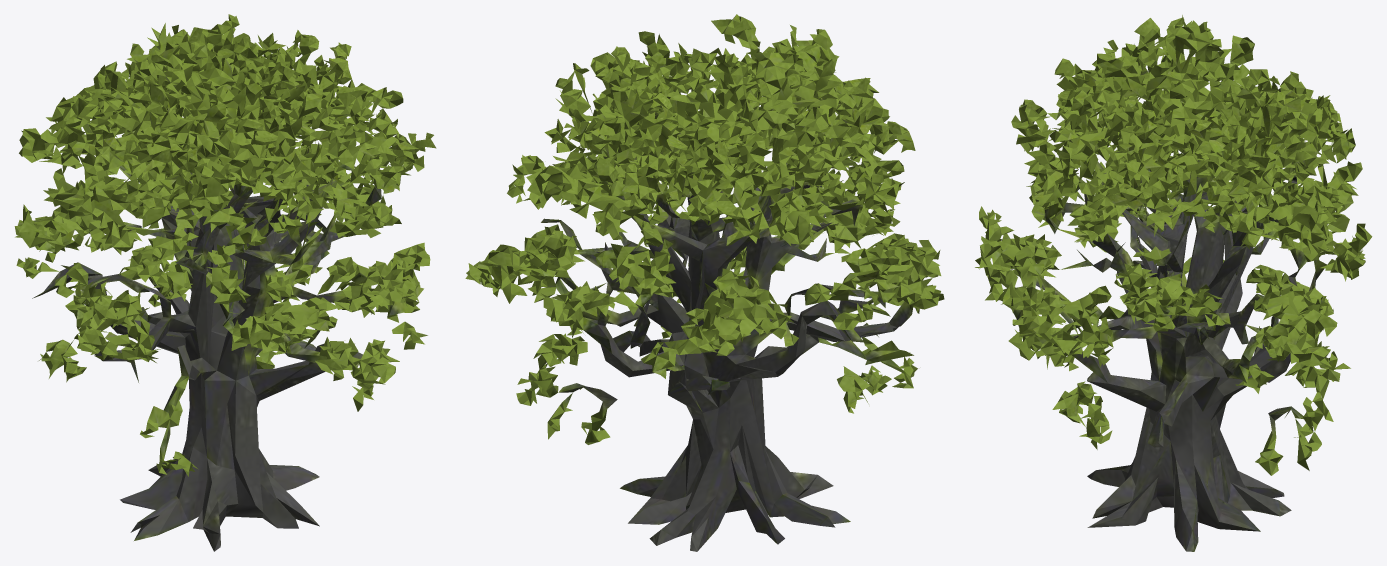
The model's file is oak.glb.
3 views of the same model, side by side, from view 1: azimuth 30°, elevation 25°; view 2: azimuth 150°, elevation 25°; view 3: azimuth 270°, elevation 25° (orthographic). The views are drawn at different scales.
Parts seen in each view (by area): view 1: output_unwrapped; view 2: output_unwrapped; view 3: output_unwrapped.
Part boxes in pixels (x1,y1,x2,y2): output_unwrapped: [14, 14, 436, 551]; output_unwrapped: [465, 14, 944, 551]; output_unwrapped: [975, 15, 1372, 551].
Size of the model in its own units: 1.63 by 1.88 by 1.47.
1 material, 1 textured.
